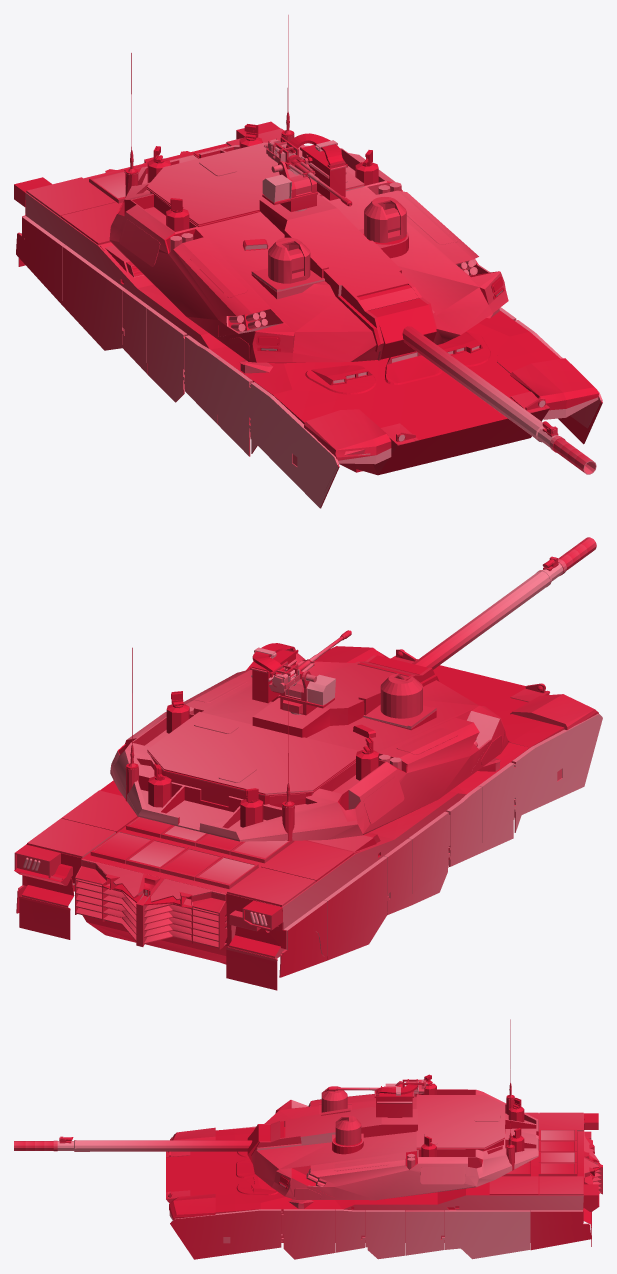
The picture shows the model from 3 angles, top to bottom: view 1: azimuth 30°, elevation 25°; view 2: azimuth 150°, elevation 25°; view 3: azimuth 270°, elevation 25°; orthographic projection. The views are drawn at different scales.
Visible parts, largest first — view 1: $body, $weapon0, AbramsX_Hull6, obj2, $weapon0_0, obj1; view 2: $body, $weapon0, AbramsX_Hull6, obj2, obj1; view 3: $body, $weapon0, AbramsX_Hull6, obj2, $weapon0_0.
Boxes of the visible parts, x1,y1,x2,y2 form: $body: (14, 121, 602, 508); $weapon0: (109, 15, 508, 363); AbramsX_Hull6: (402, 326, 596, 474); obj2: (262, 133, 347, 202); $weapon0_0: (368, 298, 436, 359); obj1: (262, 157, 317, 211); $body: (14, 646, 602, 990); $weapon0: (110, 647, 508, 841); AbramsX_Hull6: (412, 537, 596, 669); obj2: (250, 643, 335, 705); obj1: (279, 668, 334, 715); $body: (166, 1112, 602, 1259); $weapon0: (251, 1019, 538, 1200); AbramsX_Hull6: (14, 1136, 252, 1151); obj2: (374, 1079, 427, 1117); $weapon0_0: (247, 1125, 270, 1163).
Size of the model in its own units: 470 by 452 by 1383.
